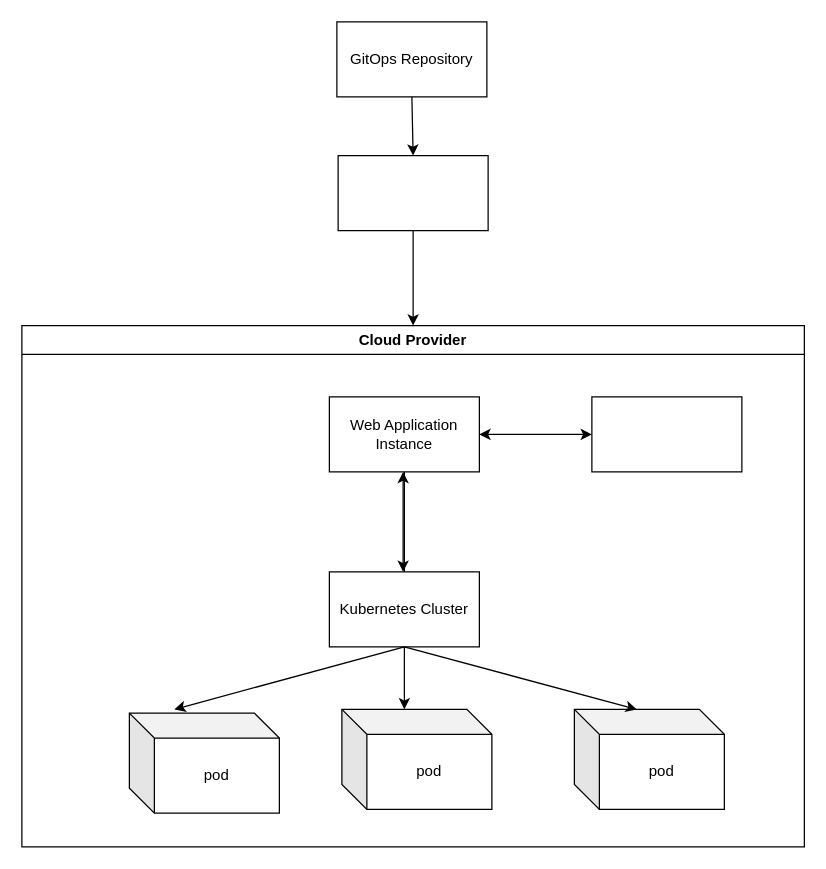
Some shapes in this 826 by 869 pixel diagram are drawn without their labels. The centre of each missing label's shape, as x and y in pixels:
CI/CD: pixel 412 192
Virtual Machine created from Golden Image: pixel 666 434
